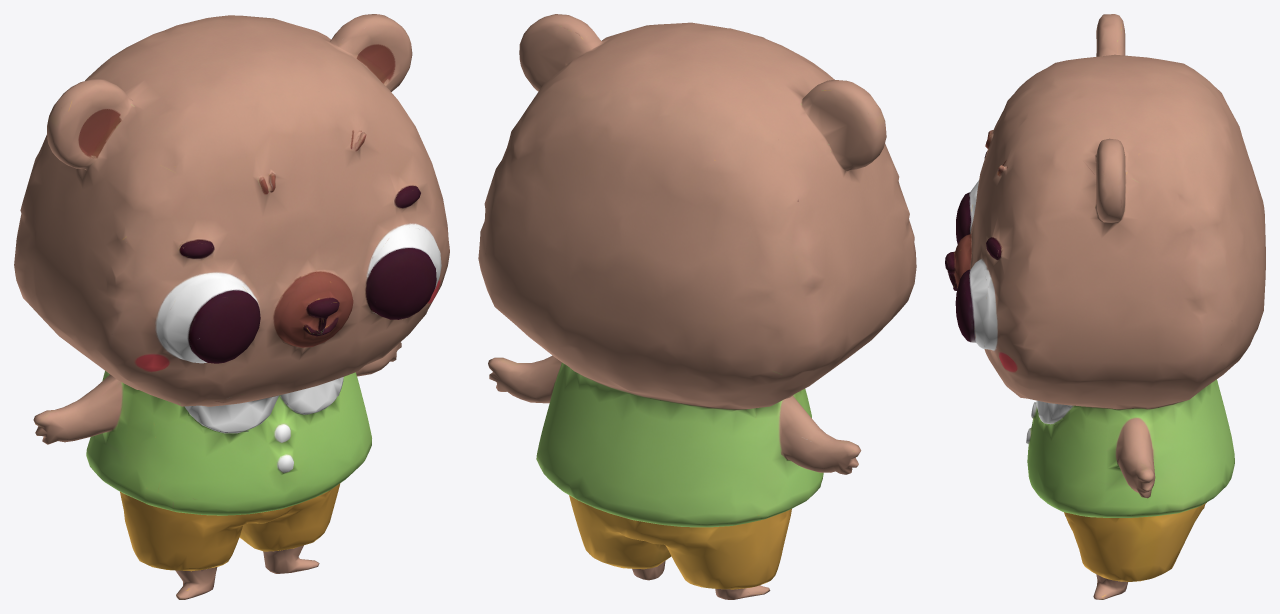
The model's file is Bear.glb.
The picture shows the model from 3 angles, left to right: view 1: azimuth 30°, elevation 25°; view 2: azimuth 150°, elevation 25°; view 3: azimuth 270°, elevation 25°; orthographic projection. The views are drawn at different scales.
Parts seen in each view (by area): view 1: Mesh1.0; view 2: Mesh1.0; view 3: Mesh1.0.
Part boxes in pixels (bbox=[...]): Mesh1.0: bbox=[14, 14, 449, 599]; Mesh1.0: bbox=[478, 14, 916, 599]; Mesh1.0: bbox=[945, 14, 1265, 599].
Bounding box in the file's own units: 1.39 × 1.91 × 1.13.
1 material, 1 textured.
